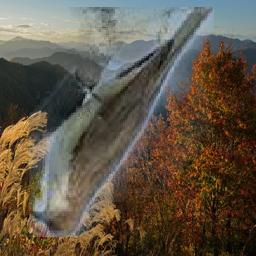Cuckoo: (30, 7, 215, 237)
